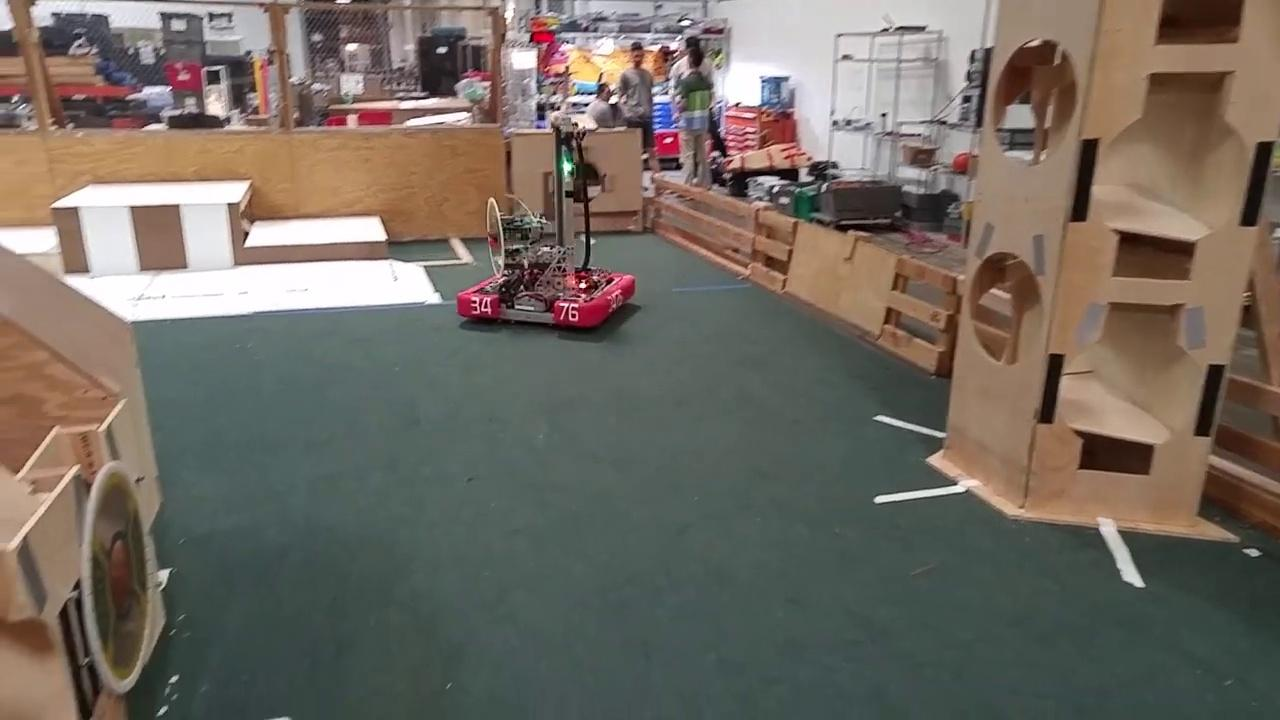robot: (453, 114, 641, 339)
